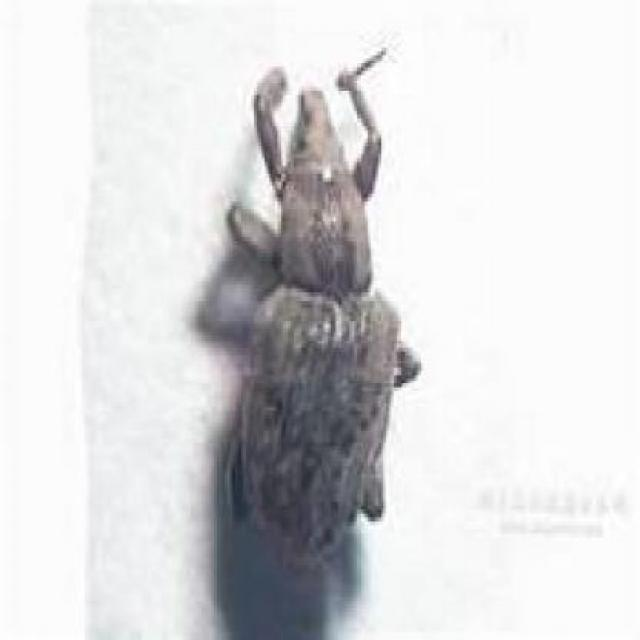rice-bug: (214, 57, 414, 561)
